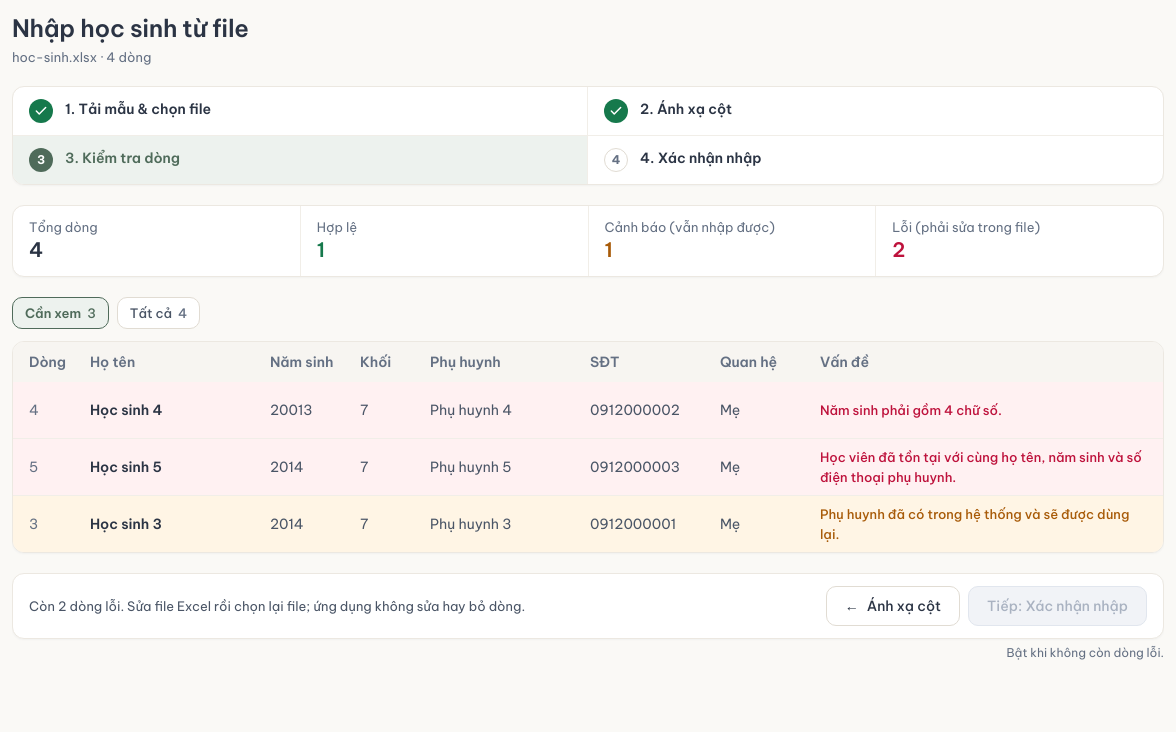
Test case: StudentImportPage wizard › reviews every row with chips, severity words, the W3 warning and duplicates as errors
Expected: the list item "3 3. Kiểm tra dòng" is shown, [13,135,588,184]
Expected: the row that starts with "Học sinh 4" shows "20013", [270,401,313,419]
Click the button named "Tất cả4" at [159, 313], box [117,297,200,329]
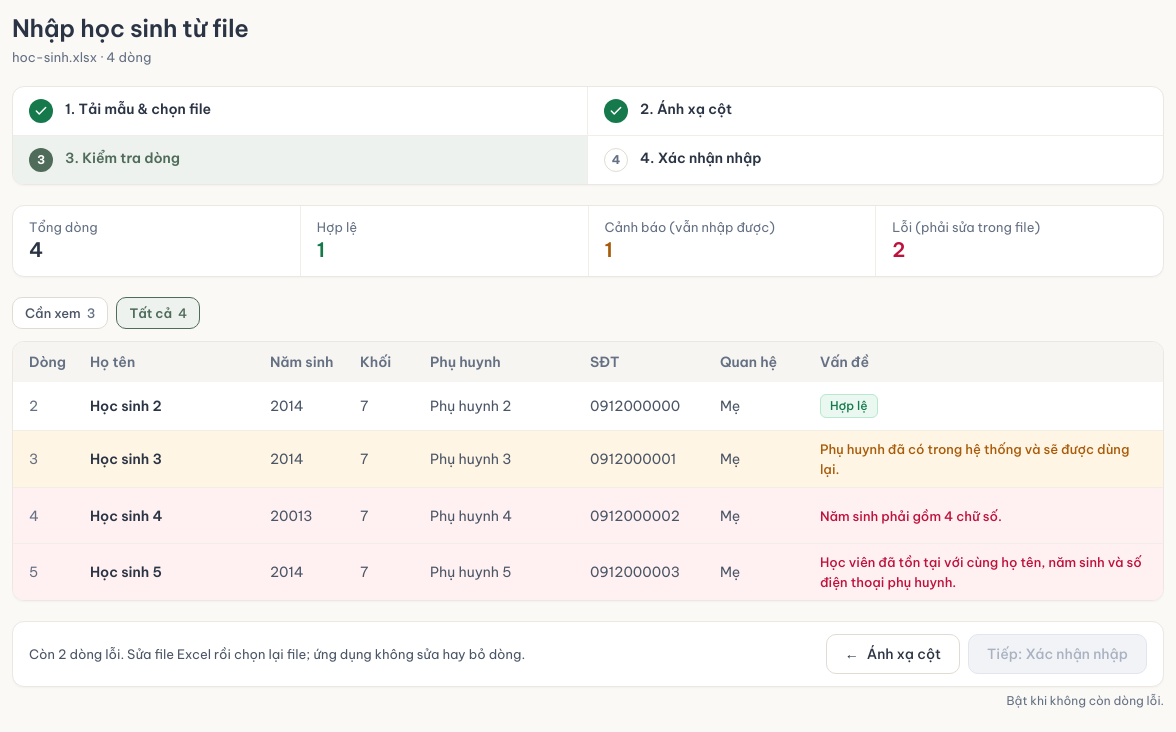
Expected: the number of rows is 5, [13,342,1163,382]; [13,382,1163,430]; [13,430,1163,487]; [13,487,1163,543]; [13,543,1163,600]
Expected: the text "Hợp lệ" is shown once, [820,394,878,418]
